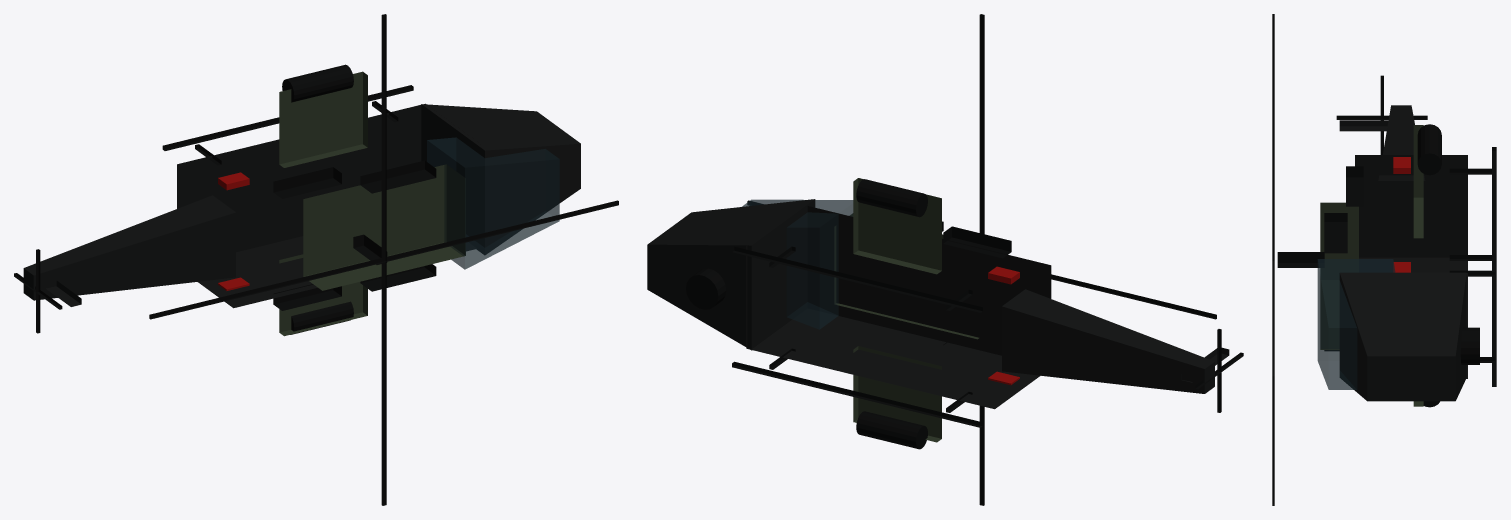
Rendered from gtvr_attack_copter_shell.obj.
3 views of the same model, side by side, from view 1: azimuth 30°, elevation 25°; view 2: azimuth 150°, elevation 25°; view 3: azimuth 270°, elevation 25° (orthographic).
Bounding box in the file's own units: 11.23 × 9.8 × 4.06.
